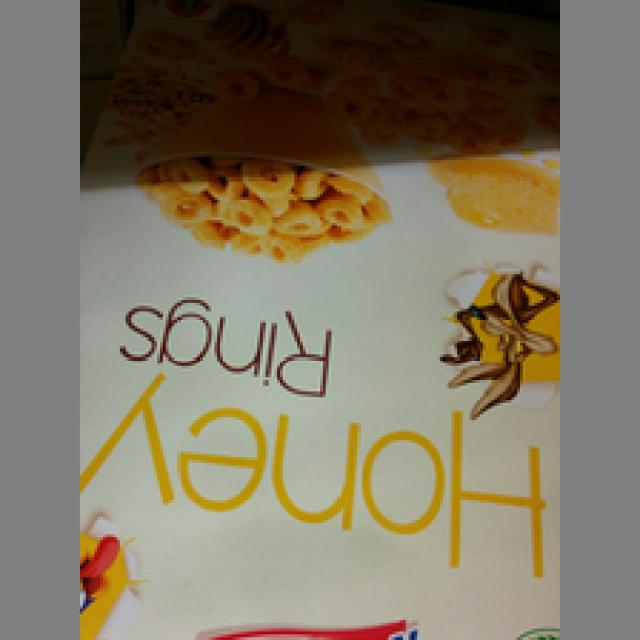groceries: (80, 146, 557, 637)
